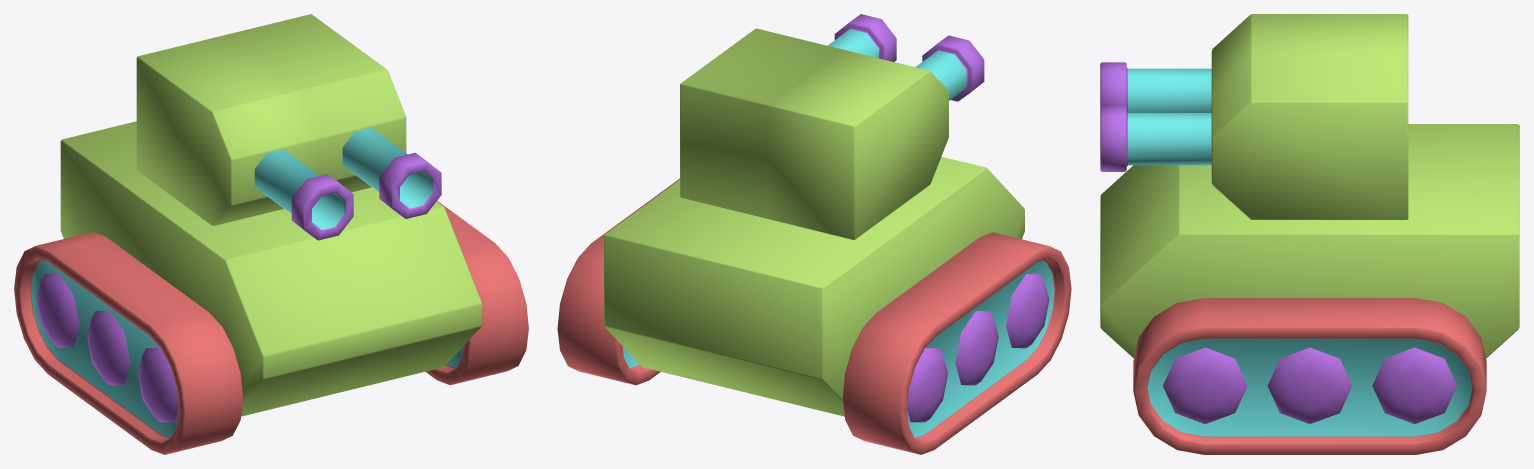
File: Tank.fbx
3 views of the same model, side by side, from view 1: azimuth 30°, elevation 25°; view 2: azimuth 150°, elevation 25°; view 3: azimuth 270°, elevation 25° (orthographic). The views are drawn at different scales.
Visible parts, largest first — view 1: Tank_Body, Tank_Canyon; view 2: Tank_Body, Tank_Canyon; view 3: Tank_Body, Tank_Canyon.
Part boxes in pixels (box(x1,y1,x2,y2)): Tank_Body: box(14, 121, 528, 454); Tank_Canyon: box(136, 14, 441, 240); Tank_Body: box(557, 156, 1071, 454); Tank_Canyon: box(680, 14, 984, 240); Tank_Body: box(1100, 124, 1519, 454); Tank_Canyon: box(1100, 14, 1408, 219).
Size of the model in its own units: 1.57 by 1.31 by 1.6.
